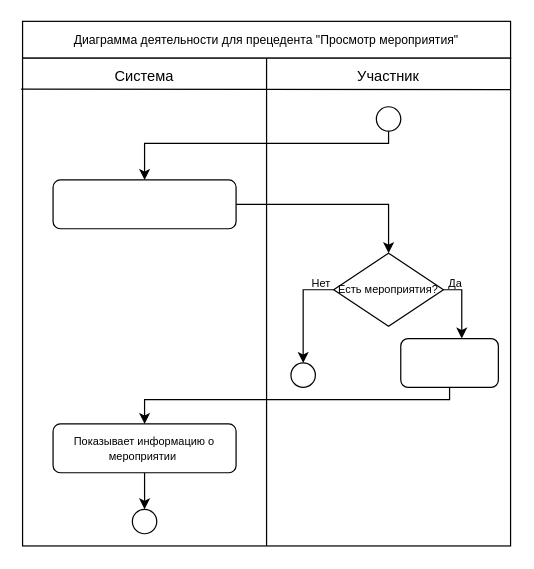
Image size: 534x569. Some labels were removed from this diagram. Here are the shapes that lost their labels. From the top down, the box of each, then its label:
(52, 179, 236, 229): Показывает список незавершенных мероприятий
(400, 337, 498, 387): Выбрать мероприятие
